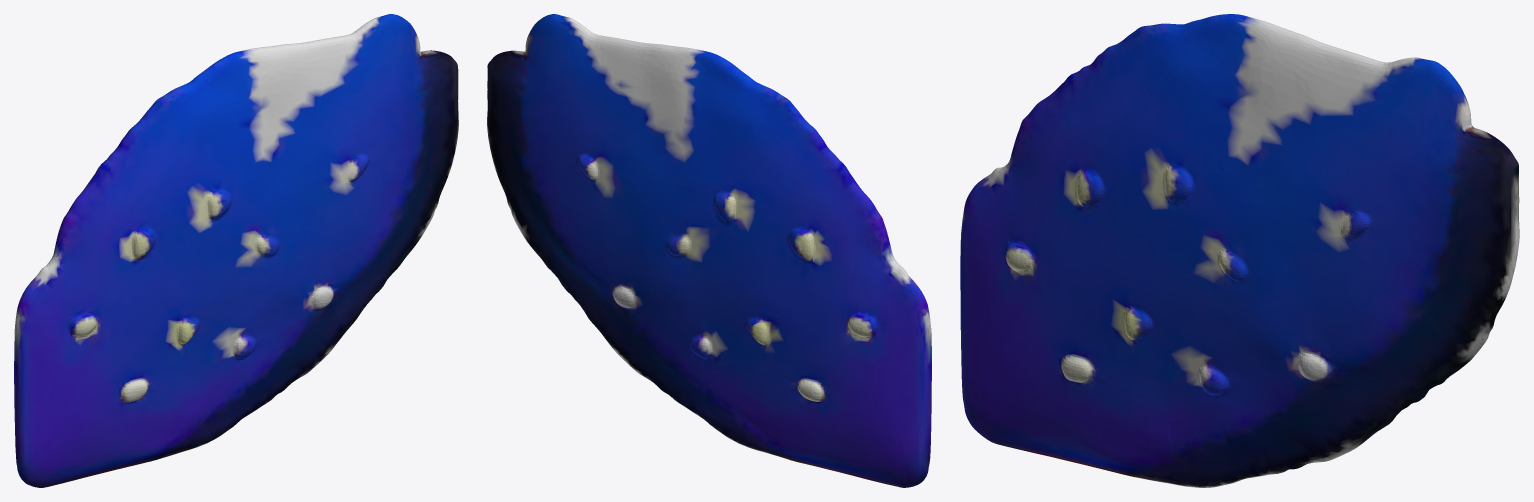
The model's file is pretty_sapphire.glb.
The picture shows the model from 3 angles, left to right: view 1: azimuth 30°, elevation 25°; view 2: azimuth 150°, elevation 25°; view 3: azimuth 330°, elevation 25°; orthographic projection. The views are drawn at different scales.
Visible parts, largest first — view 1: geometry_0; view 2: geometry_0; view 3: geometry_0.
Part boxes in pixels (x1,y1,x2,y2): geometry_0: (14, 14, 458, 487); geometry_0: (487, 14, 931, 487); geometry_0: (960, 14, 1519, 487).
Size of the model in its own units: 0.5938 by 0.4987 by 0.096.
